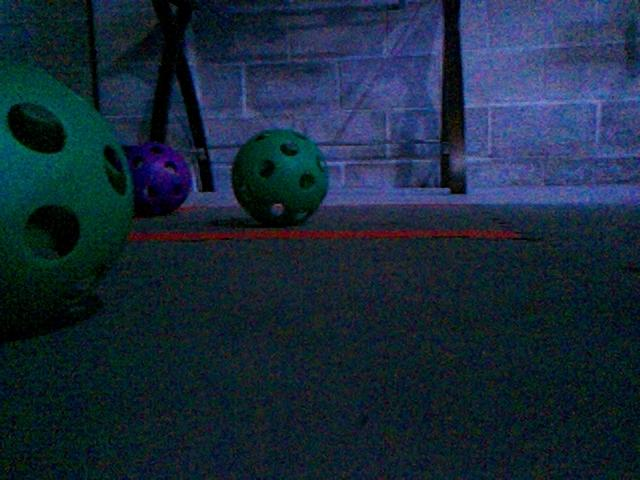Green: (0, 64, 136, 341), (228, 128, 331, 227)
Purple: (124, 140, 192, 217)
